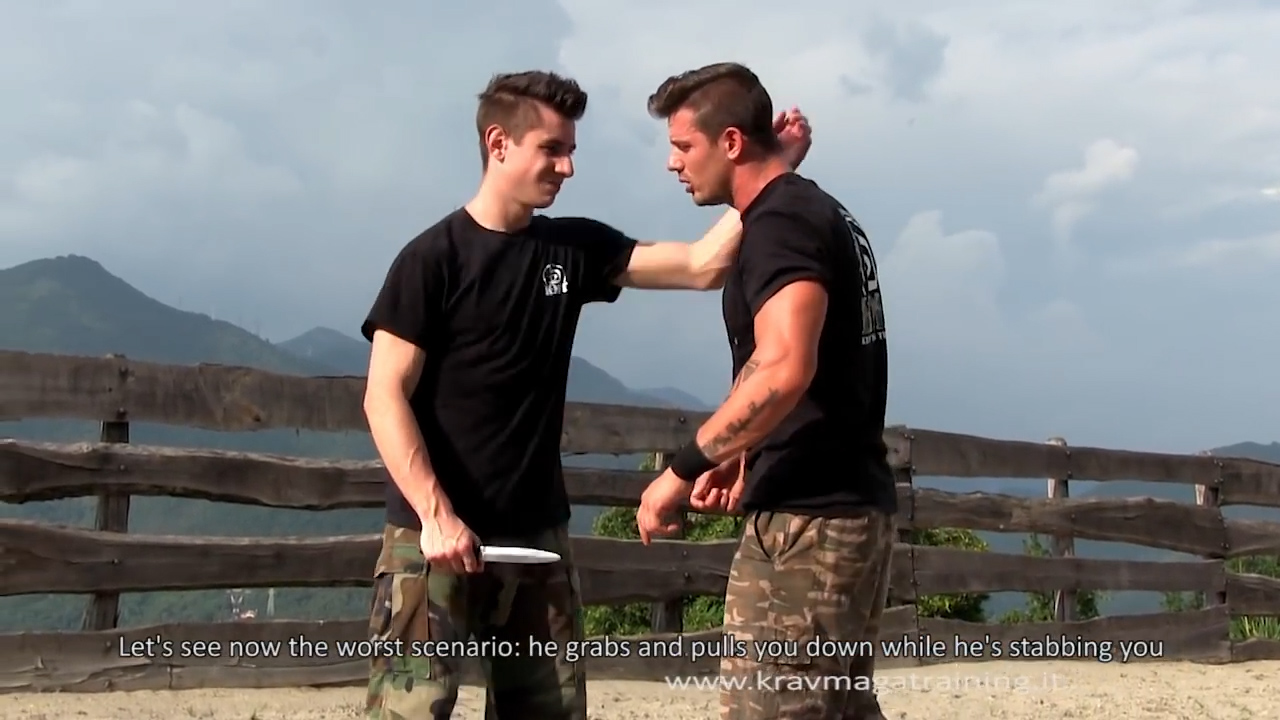knife: (412, 530, 569, 573)
